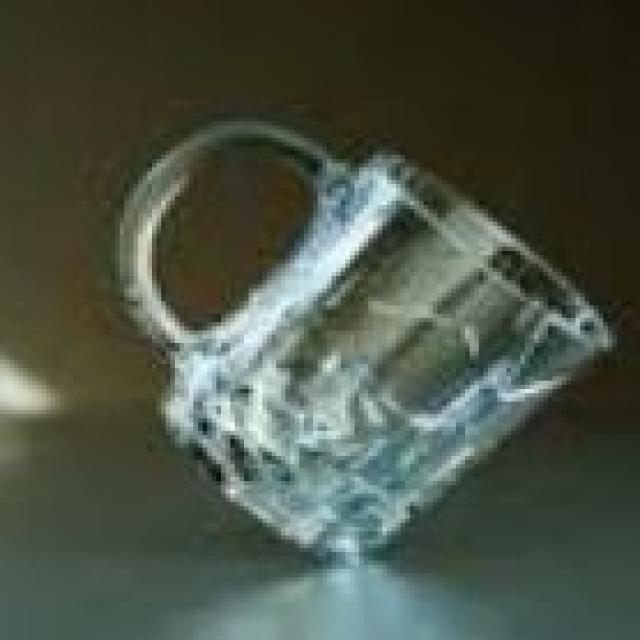electronic: (114, 113, 626, 561)
